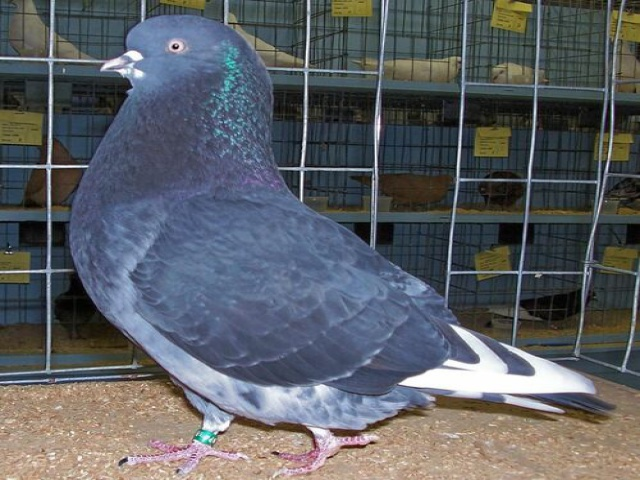Pigeon: (69, 13, 619, 468)
